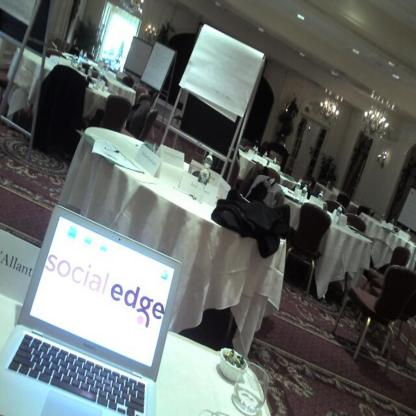board: (0, 185, 189, 415), (194, 152, 214, 200), (294, 176, 303, 198), (96, 69, 105, 91), (334, 203, 344, 222), (300, 182, 308, 204), (88, 62, 96, 78), (83, 48, 90, 59), (318, 189, 324, 198), (272, 155, 278, 164), (262, 150, 269, 157), (252, 144, 258, 152), (79, 48, 84, 55), (255, 149, 261, 154)
